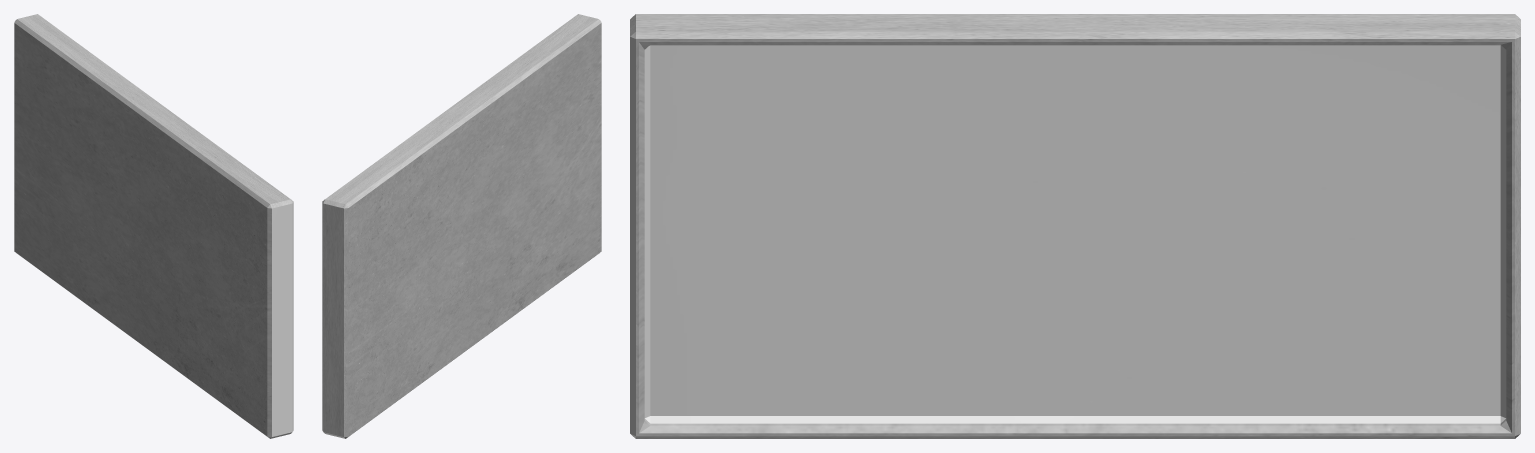
The model's file is tabla.fbx.
3 renders of one model, left to right at view 1: azimuth 30°, elevation 25°; view 2: azimuth 150°, elevation 25°; view 3: azimuth 270°, elevation 25°, orthographic. The views are drawn at different scales.
Parts seen in each view (by area): view 1: Cube; view 2: Cube; view 3: Cube.
Boxes of the visible parts, box(x1,y1,x2,y2) form: Cube: box(14, 14, 293, 438); Cube: box(322, 14, 601, 438); Cube: box(630, 14, 1520, 438).
Bounding box in the file's own units: 92.71 × 787 × 1559.
Materials: 2 (2 with a texture image).
